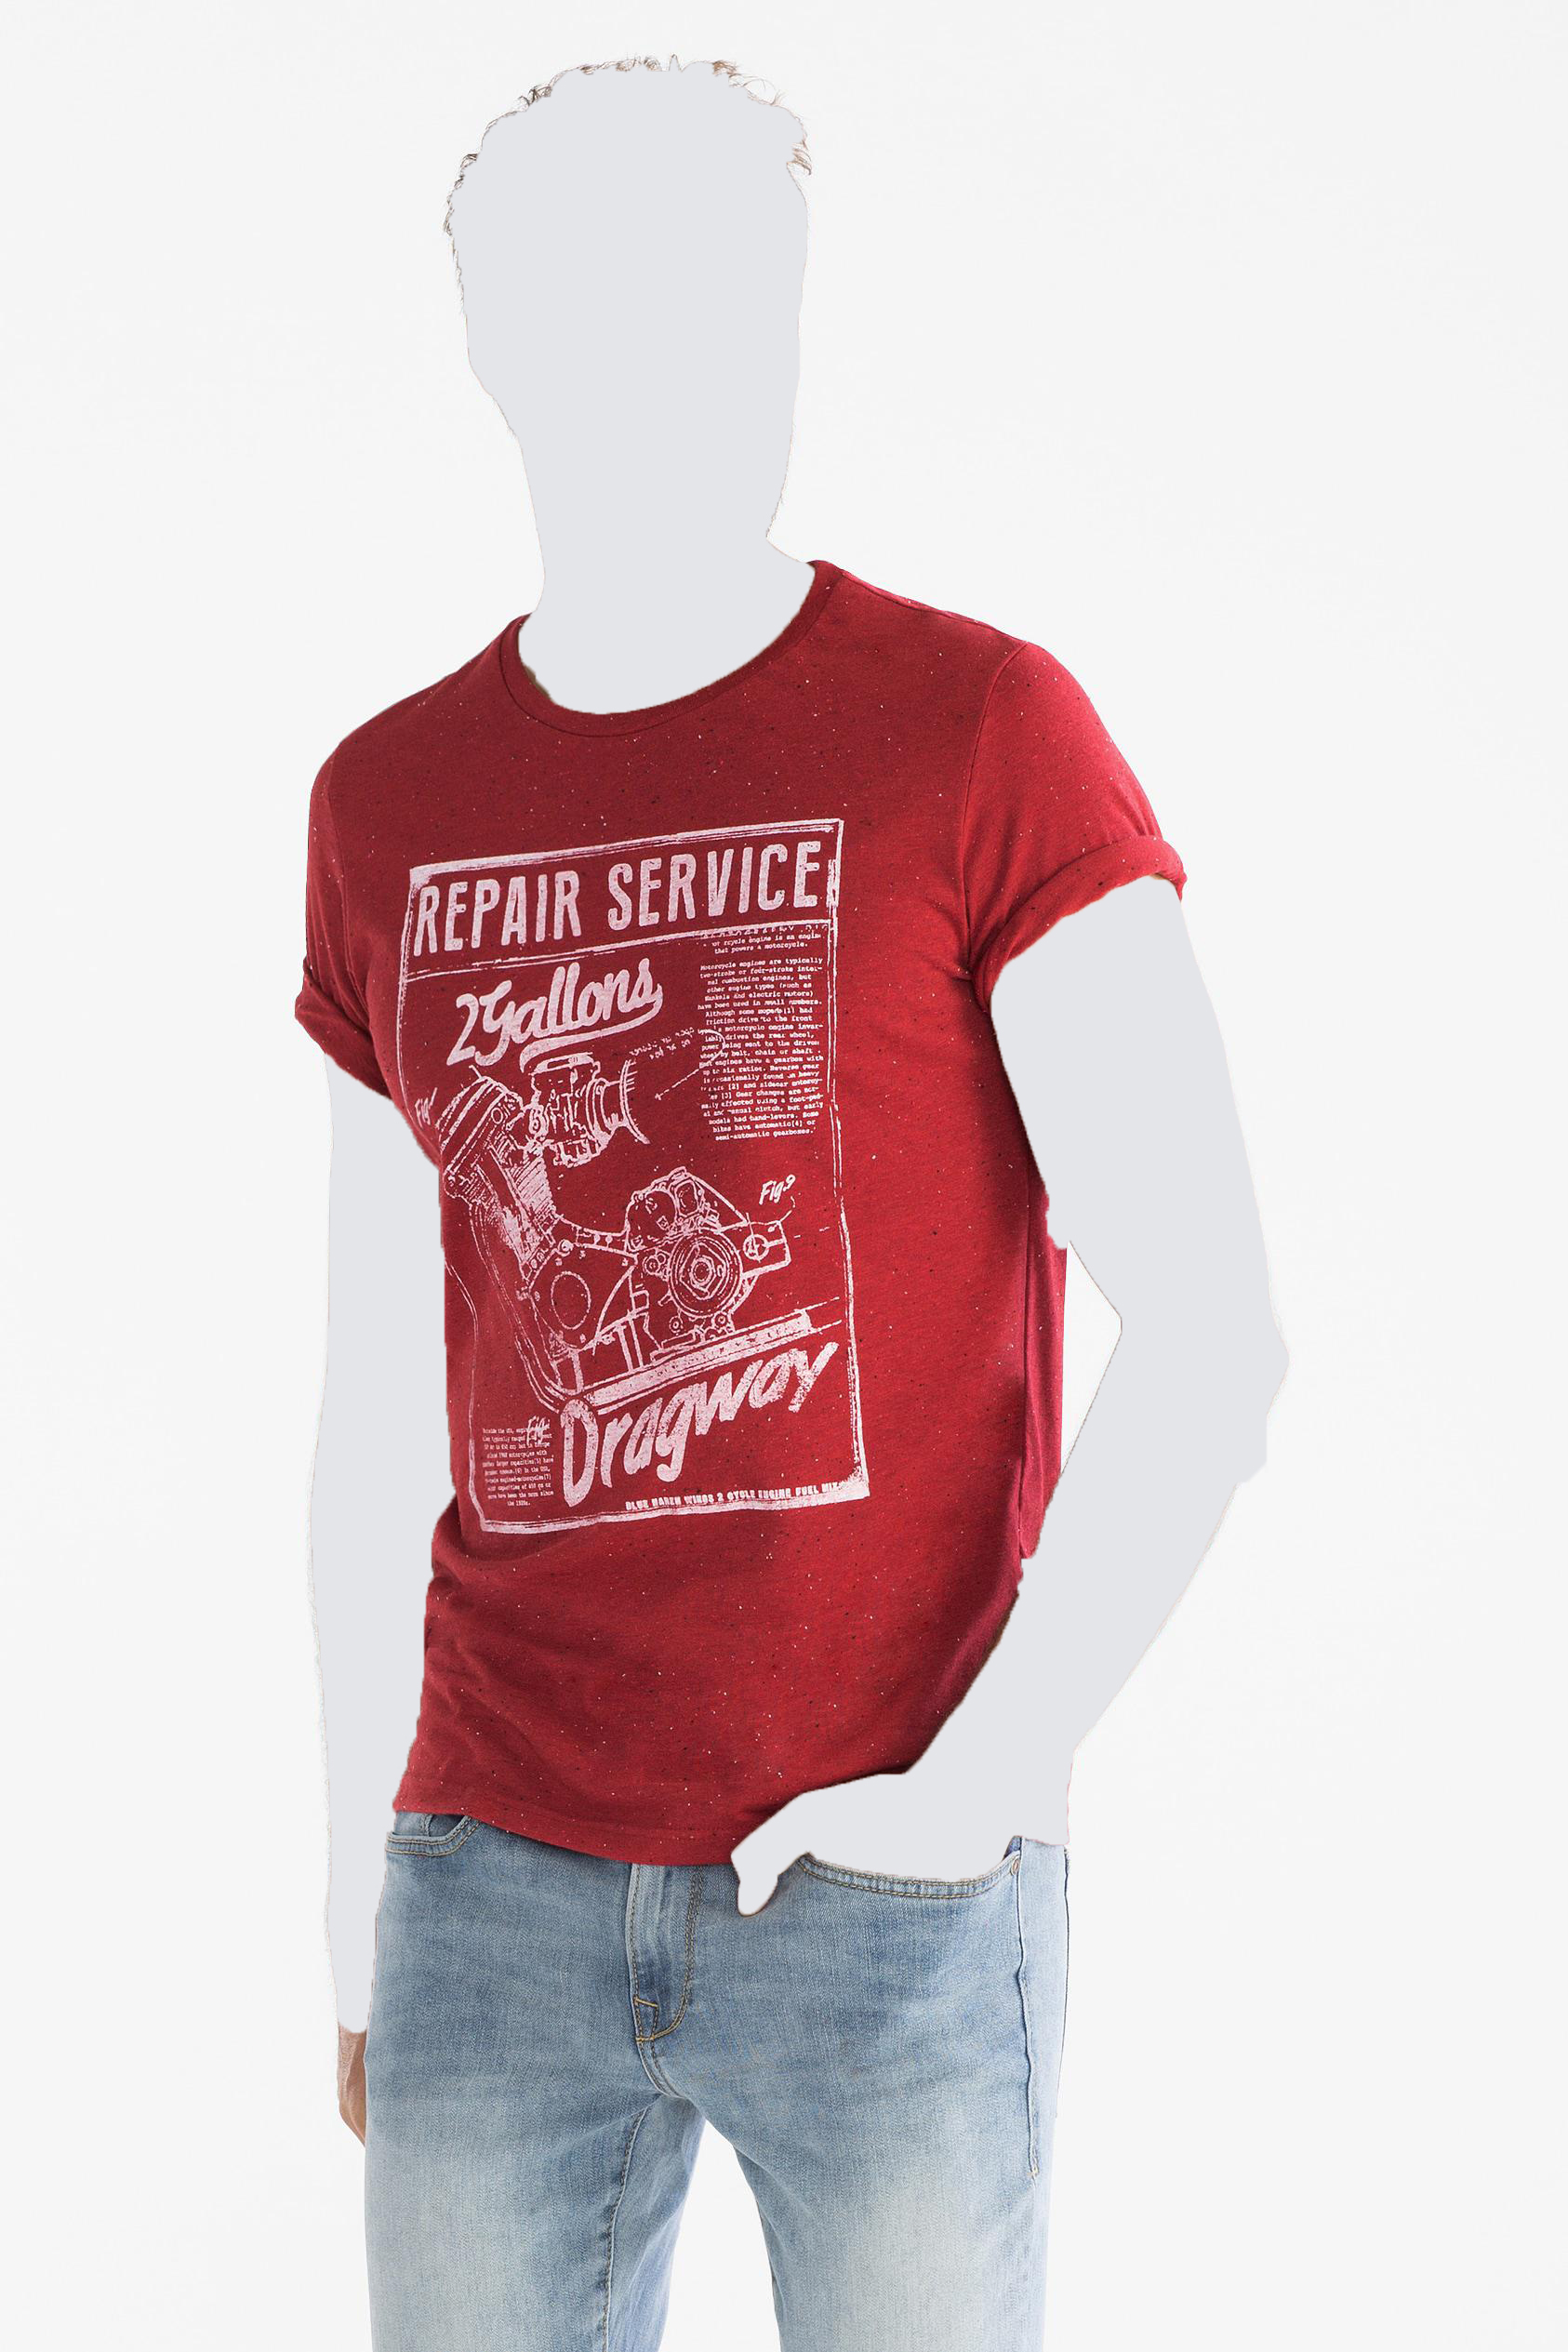teeshirt: (262, 567, 1225, 1876)
